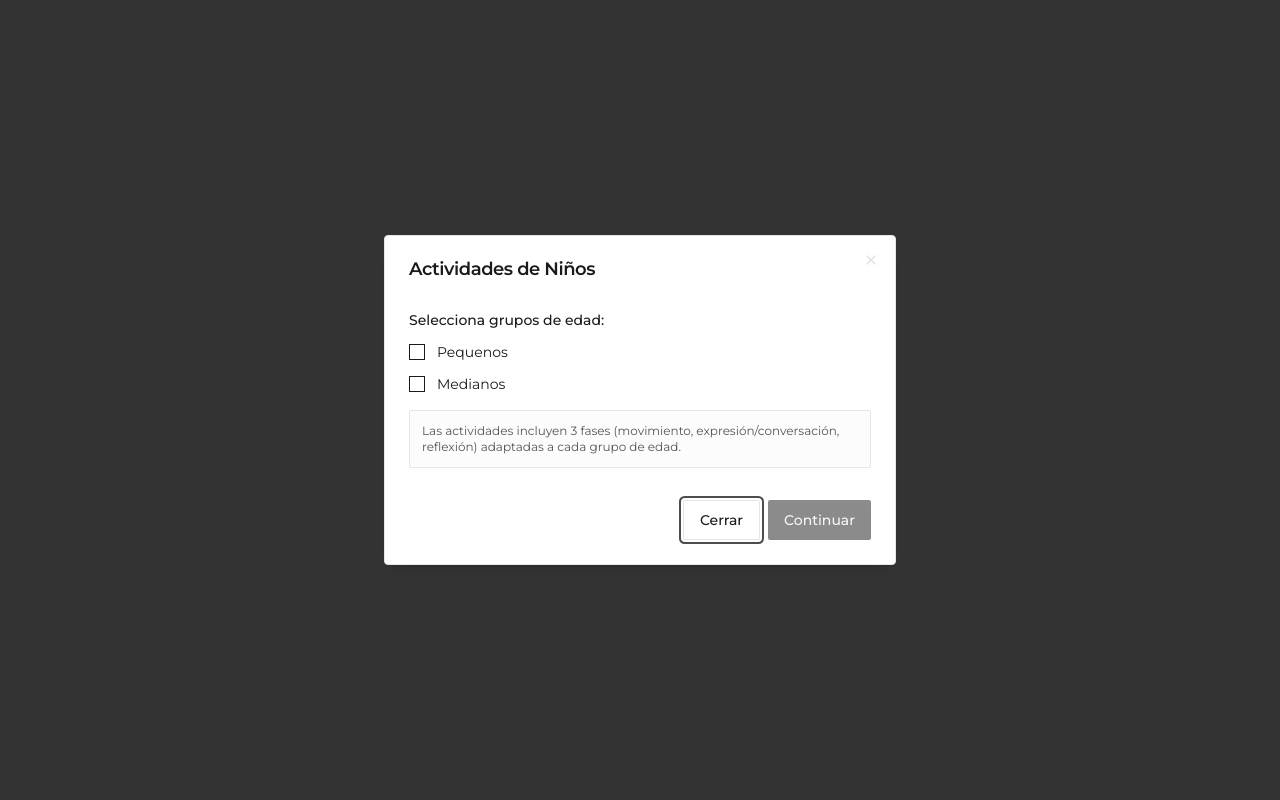
Test case: [A3] compuerta M-D10 sobre la primera carga del inventario › habilita Generar tras una carga vacía (inventario sin materiales)
Click the checkbox named "Pequenos" next to "Pequenos": click(417, 352) x1=409 y1=344 x2=425 y2=360
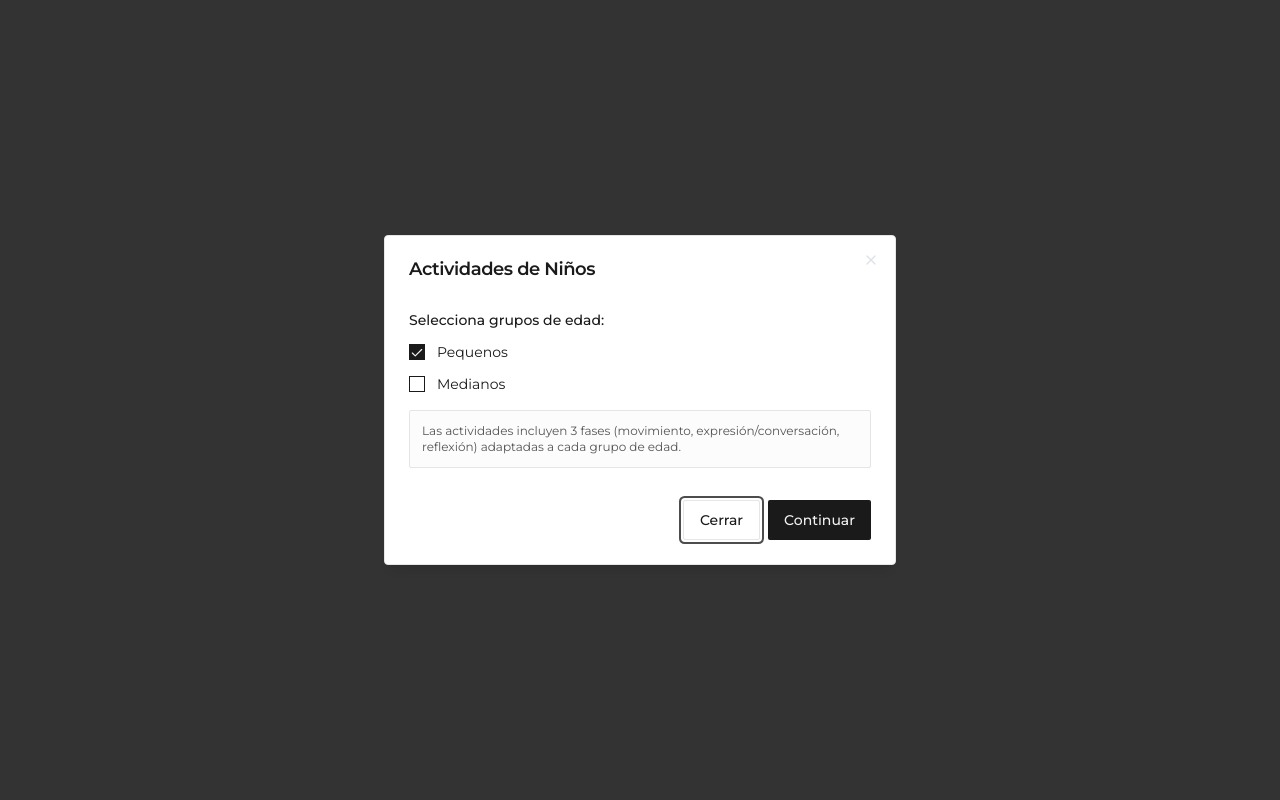
Click the button "Continuar": click(820, 520) x1=768 y1=500 x2=871 y2=540
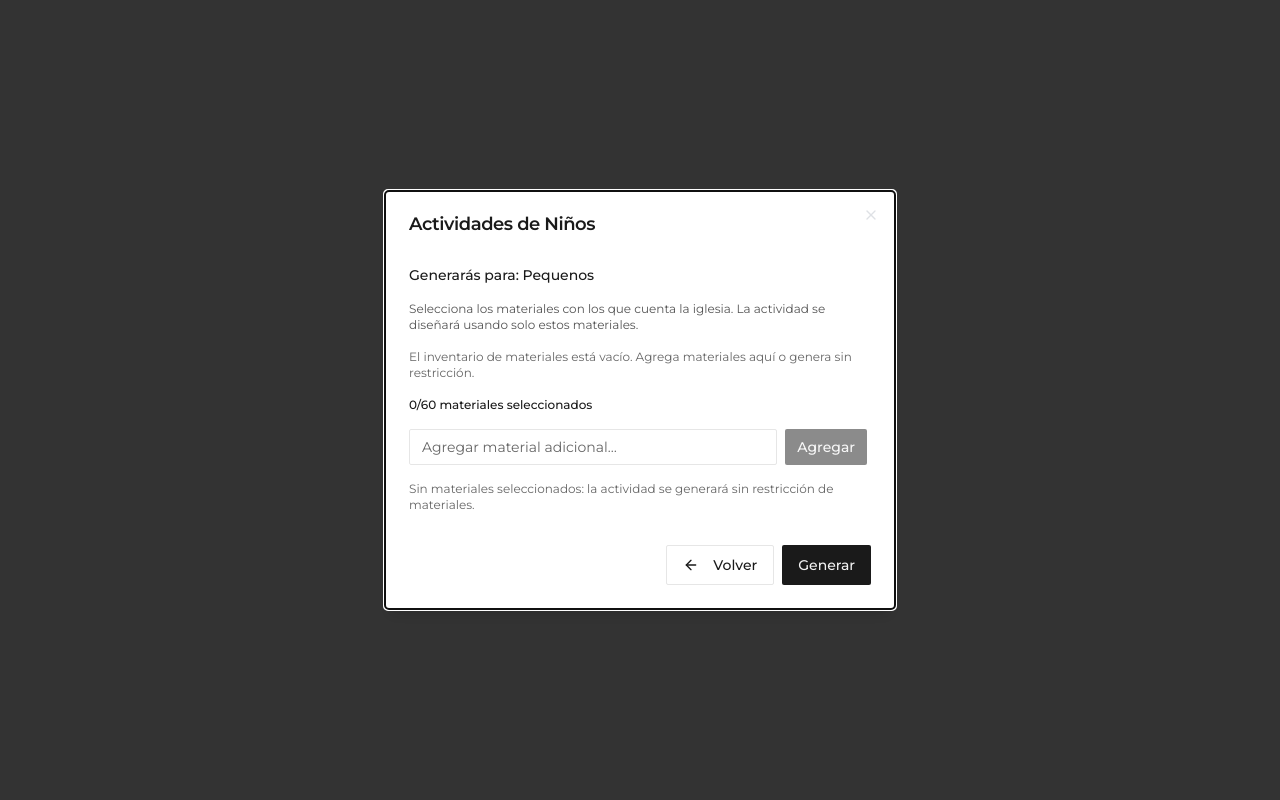
Result: the button "Generar" is enabled at x1=782 y1=545 x2=871 y2=585
Result: the text "El inventario de materiales está vacío. Agrega materiales aquí o genera sin restricción." is shown at x1=409 y1=349 x2=852 y2=380
